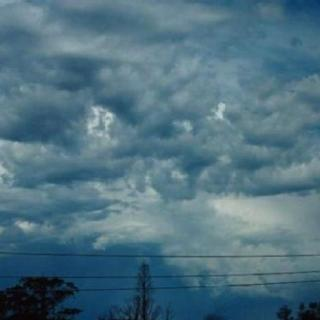Altocumulus: (0, 0, 320, 298)
